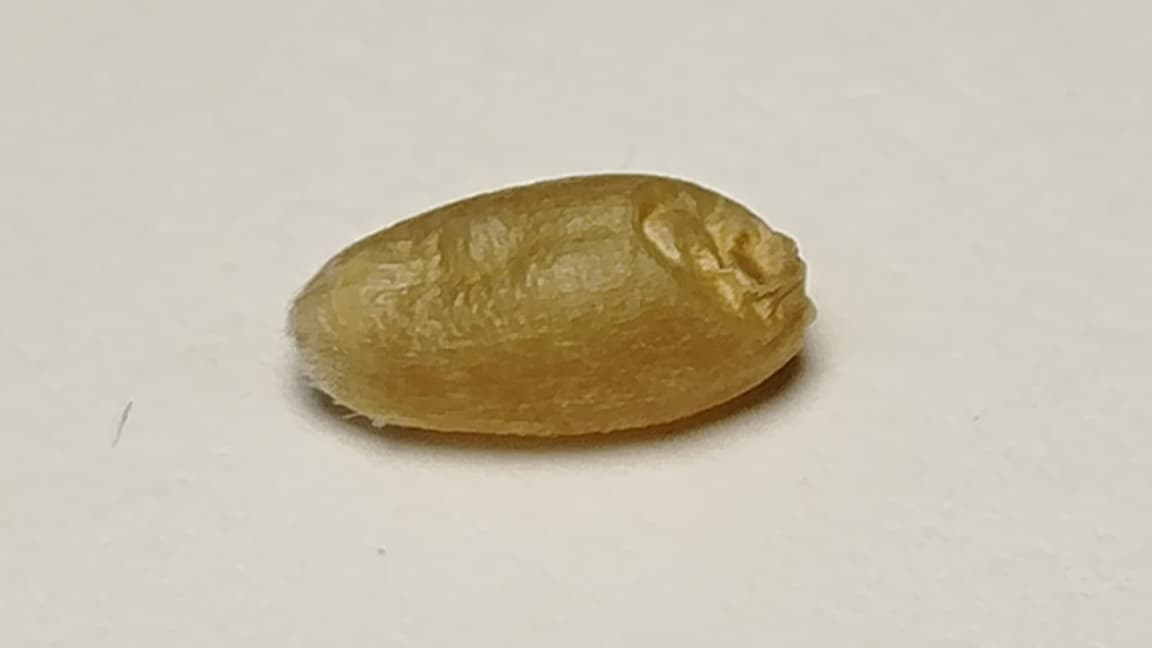healthy: (292, 175, 813, 434)
